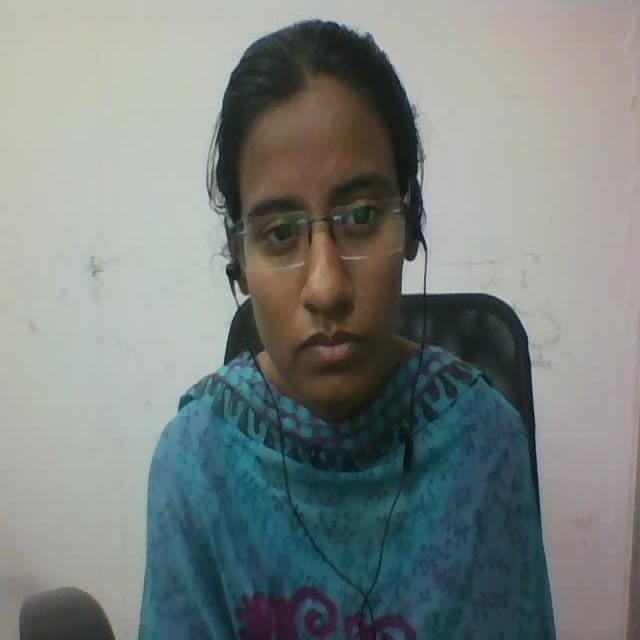Engaged: (198, 0, 443, 445)
